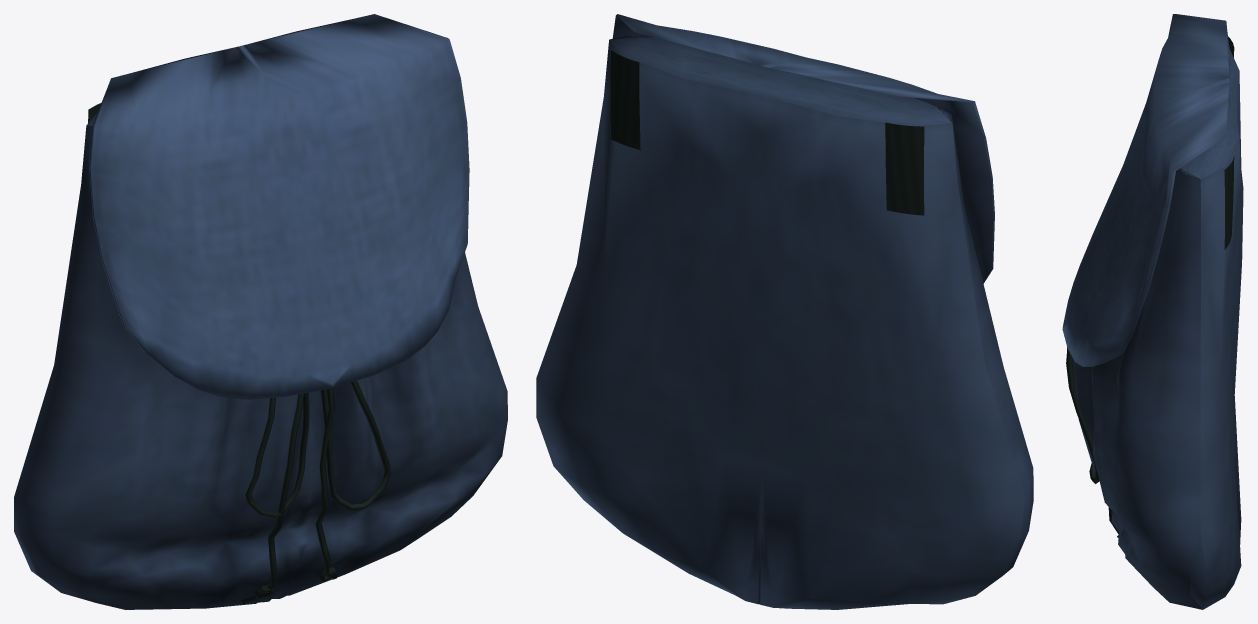
File: NavyClothPouchLow.glb
3 renders of one model, left to right at view 1: azimuth 30°, elevation 25°; view 2: azimuth 150°, elevation 25°; view 3: azimuth 270°, elevation 25°, orthographic. The views are drawn at different scales.
Visible parts, largest first — view 1: Symmetric Cloth Pouch; view 2: Symmetric Cloth Pouch; view 3: Symmetric Cloth Pouch.
Boxes of the visible parts, box(x1,y1,x2,y2) form: Symmetric Cloth Pouch: box(14, 14, 507, 609); Symmetric Cloth Pouch: box(536, 14, 1033, 609); Symmetric Cloth Pouch: box(1062, 14, 1243, 609).
Bounding box in the file's own units: 0.9616 × 1.01 × 0.3422.
1 material, 1 textured.
